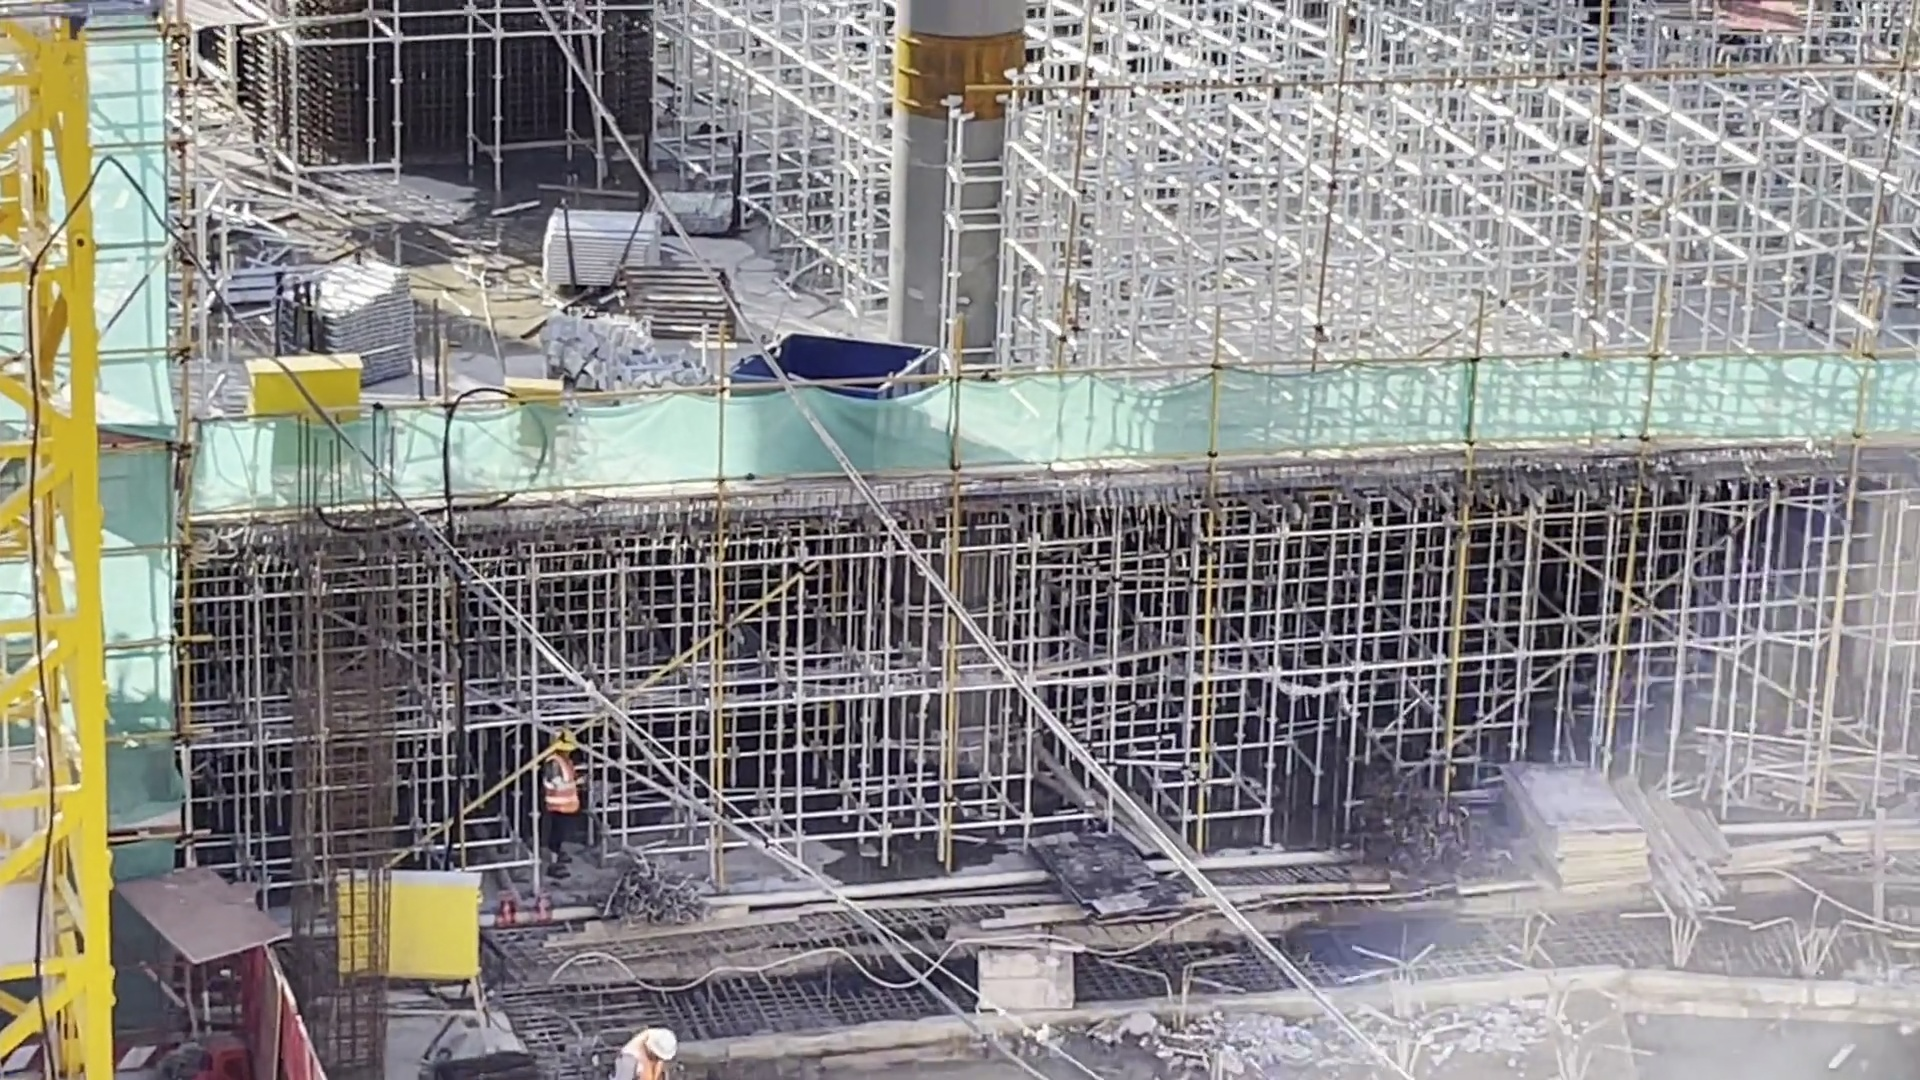board: (1519, 742, 1648, 882)
ebox: (324, 849, 498, 981), (239, 356, 358, 422), (498, 366, 581, 421)
fence: (228, 956, 329, 1080)
helmet: (551, 727, 578, 761), (651, 1031, 673, 1056)
hopper: (739, 322, 976, 452)
person: (544, 713, 591, 871), (618, 1009, 669, 1080)
scaffold: (538, 191, 701, 316), (286, 261, 428, 376)
vest: (539, 766, 584, 834), (624, 1032, 659, 1080)
